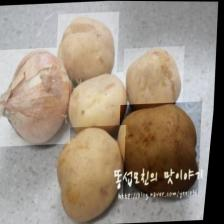Potato: (115, 100, 209, 198), (53, 124, 134, 224), (0, 46, 80, 147), (53, 11, 123, 89), (120, 45, 189, 122), (65, 72, 136, 140)
